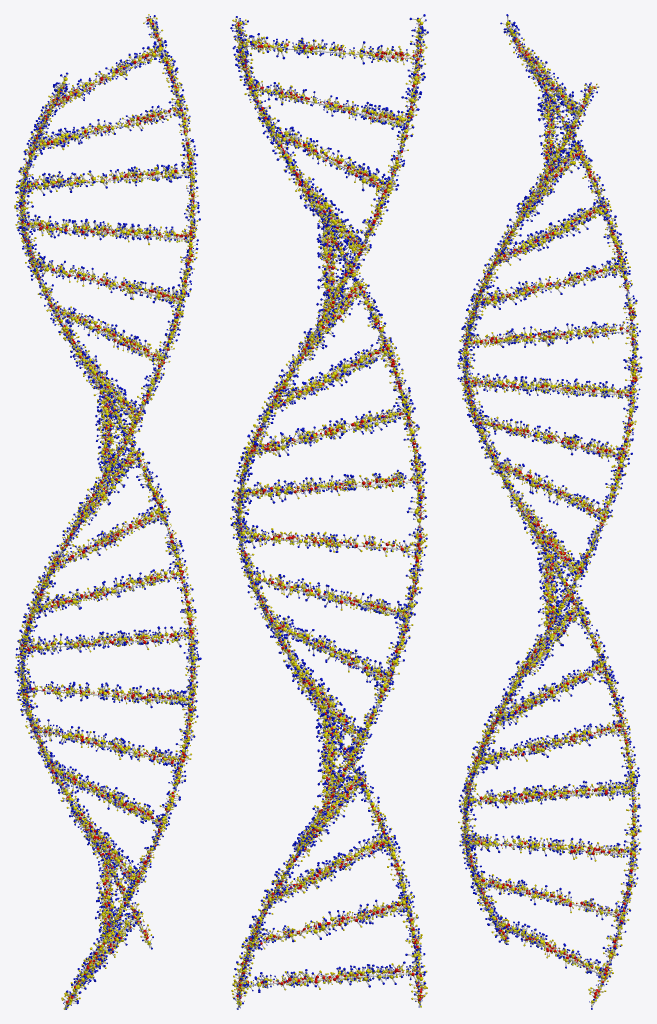
File: DNA_Double_Helix.glb
3 renders of one model, left to right at view 1: azimuth 30°, elevation 25°; view 2: azimuth 150°, elevation 25°; view 3: azimuth 270°, elevation 25°, orthographic. The views are drawn at different scales.
Parts seen in each view (by area): view 1: Backbone_A_Atoms, Backbone_B_Atoms, BasePair_15_Atoms, BasePair_07_Atoms, BasePair_16_Atoms, BasePair_06_Atoms, BasePair_05_Atoms, BasePair_08_Atoms, BasePair_17_Atoms, BasePair_14_Atoms, BasePair_04_Atoms, BasePair_13_Atoms (+8 smaller); view 2: Backbone_A_Atoms, Backbone_B_Atoms, BasePair_01_Atoms, BasePair_10_Atoms, BasePair_11_Atoms, BasePair_02_Atoms, BasePair_08_Atoms, BasePair_17_Atoms, BasePair_07_Atoms, BasePair_18_Atoms, BasePair_16_Atoms, BasePair_03_Atoms (+8 smaller); view 3: Backbone_B_Atoms, Backbone_A_Atoms, BasePair_04_Atoms, BasePair_12_Atoms, BasePair_03_Atoms, BasePair_05_Atoms, BasePair_13_Atoms, BasePair_14_Atoms, BasePair_11_Atoms, BasePair_15_Atoms, BasePair_02_Atoms, BasePair_06_Atoms (+8 smaller).
Part boxes in pixels (x1,y1,x2,y2): Backbone_A_Atoms: (14, 72, 201, 1009); Backbone_B_Atoms: (14, 14, 200, 949); BasePair_15_Atoms: (15, 214, 196, 245); BasePair_07_Atoms: (20, 626, 197, 657); BasePair_16_Atoms: (16, 163, 196, 195); BasePair_06_Atoms: (16, 677, 195, 708); BasePair_05_Atoms: (25, 718, 188, 768); BasePair_08_Atoms: (28, 564, 186, 617); BasePair_17_Atoms: (28, 100, 187, 150); BasePair_14_Atoms: (27, 255, 189, 306); BasePair_04_Atoms: (44, 758, 170, 827); BasePair_13_Atoms: (44, 298, 168, 366); Backbone_A_Atoms: (230, 14, 428, 1007); Backbone_B_Atoms: (230, 16, 427, 1009); BasePair_01_Atoms: (232, 961, 424, 993); BasePair_10_Atoms: (238, 468, 426, 504); BasePair_11_Atoms: (245, 402, 413, 459); BasePair_02_Atoms: (245, 893, 413, 950); BasePair_08_Atoms: (250, 567, 415, 622); BasePair_17_Atoms: (244, 75, 413, 129); BasePair_07_Atoms: (262, 613, 393, 686); BasePair_18_Atoms: (233, 33, 423, 64); BasePair_16_Atoms: (262, 117, 399, 194); BasePair_03_Atoms: (263, 832, 395, 905); Backbone_B_Atoms: (457, 82, 641, 1009); Backbone_A_Atoms: (458, 14, 642, 944); BasePair_04_Atoms: (460, 779, 637, 808); BasePair_12_Atoms: (457, 373, 640, 399); BasePair_03_Atoms: (459, 830, 637, 861); BasePair_05_Atoms: (471, 717, 627, 770); BasePair_13_Atoms: (461, 321, 638, 348); BasePair_14_Atoms: (470, 258, 628, 309); BasePair_11_Atoms: (471, 410, 632, 464); BasePair_15_Atoms: (488, 197, 611, 268); BasePair_02_Atoms: (470, 867, 630, 920); BasePair_06_Atoms: (488, 655, 608, 728).
Size of what is drawn, in the model's own units: 0.0914 by 0.5071 by 0.0914.
